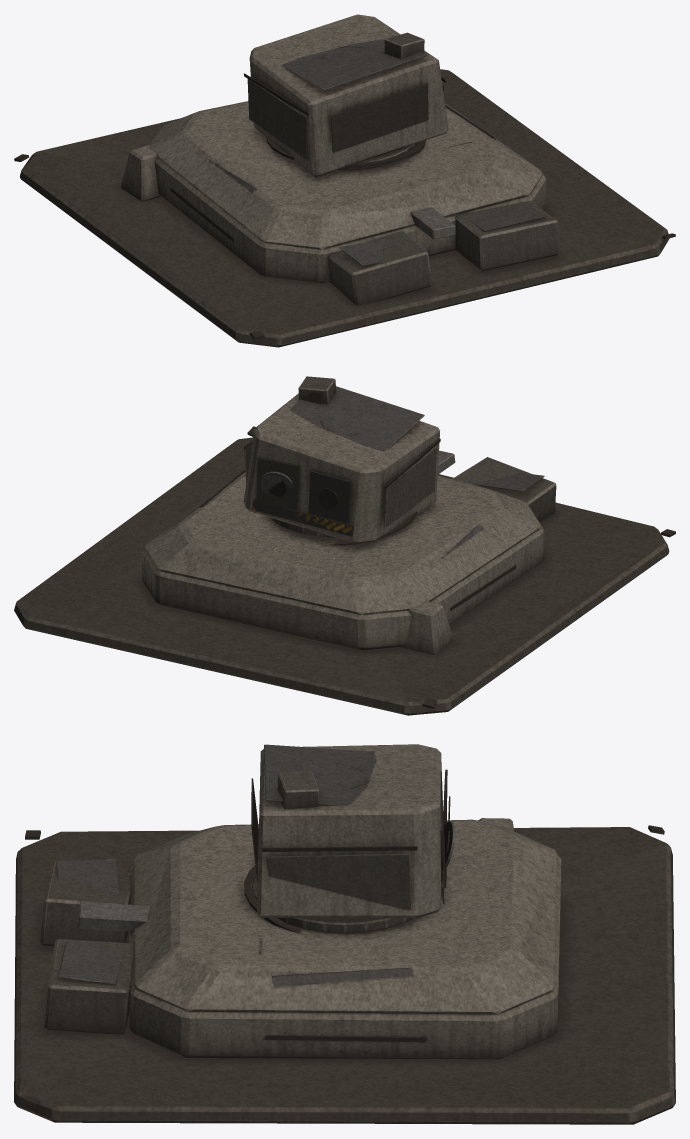
The model's file is ord_sanction_wreck.fbx.
3 renders of one model, top to bottom at view 1: azimuth 30°, elevation 25°; view 2: azimuth 150°, elevation 25°; view 3: azimuth 270°, elevation 25°, orthographic. The views are drawn at different scales.
Parts seen in each view (by area): view 1: base_bar, launcher_bar; view 2: base_bar, launcher_bar; view 3: base_bar, launcher_bar.
Part boxes in pixels (x1,y1,x2,y2): base_bar: (14,69,675,347); launcher_bar: (244,14,448,177); base_bar: (14,426,675,715); launcher_bar: (243,376,440,543); base_bar: (14,818,675,1124); launcher_bar: (251,744,455,933).
Bounding box in the file's own units: 2323 × 1098 × 2330.
Materials: 2 (2 with a texture image).
